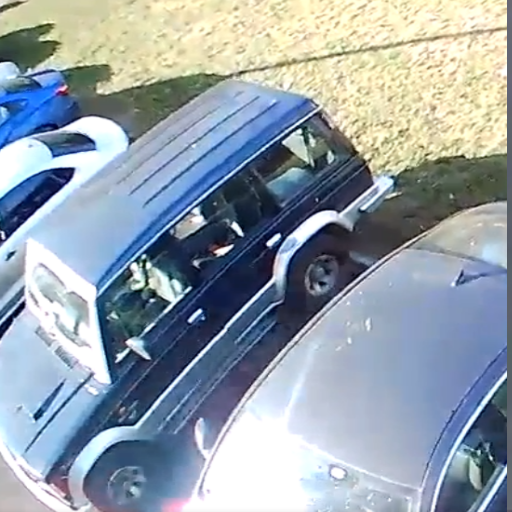Car: (2, 82, 383, 509), (184, 200, 508, 509), (2, 115, 131, 322)
